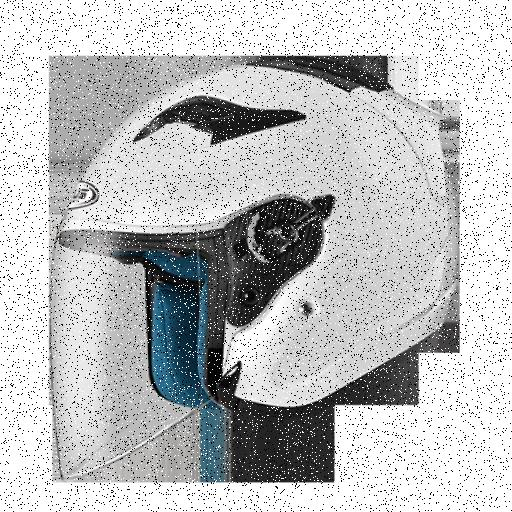Helmet: (30, 60, 466, 496)
